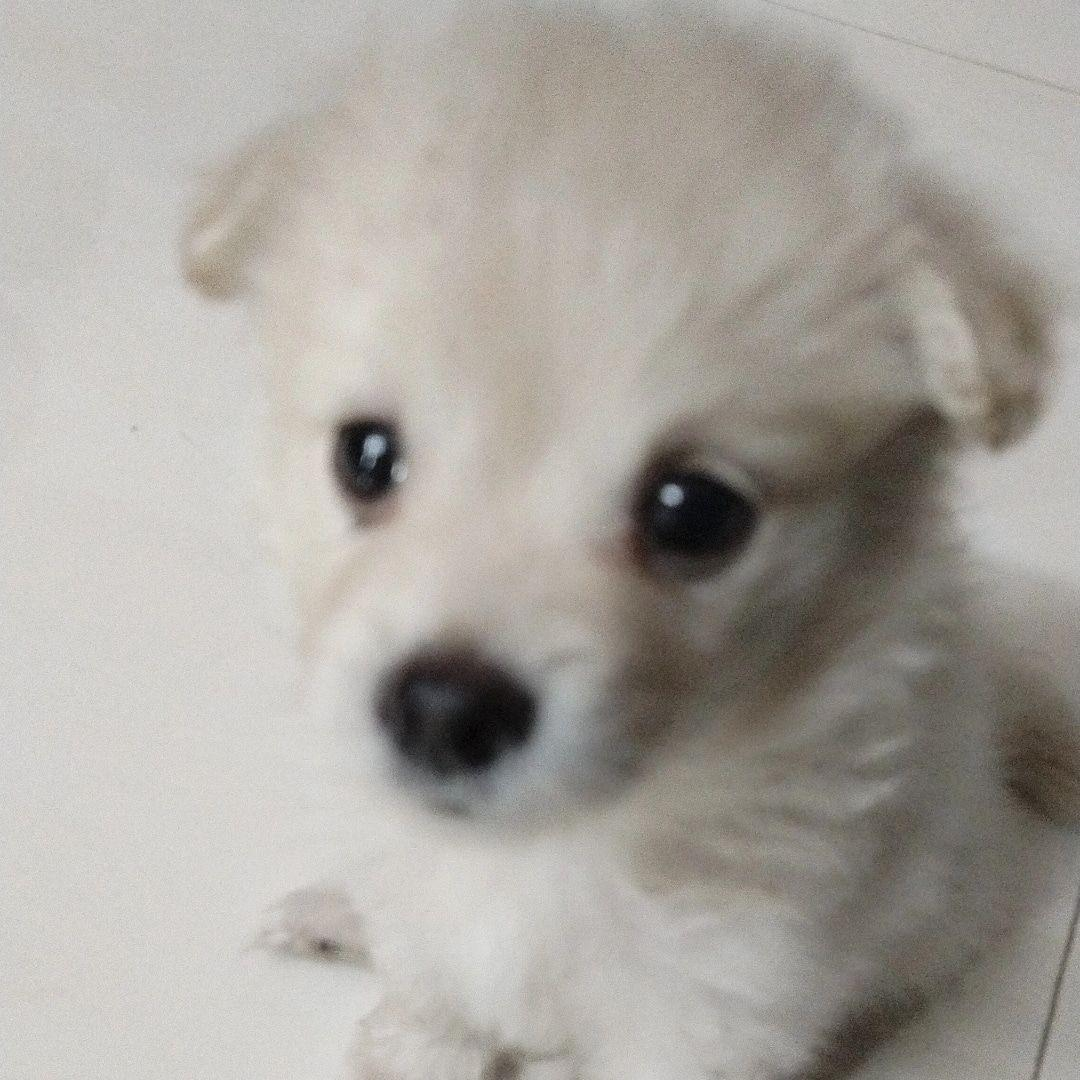puppy-dog: (162, 14, 1080, 1080)
